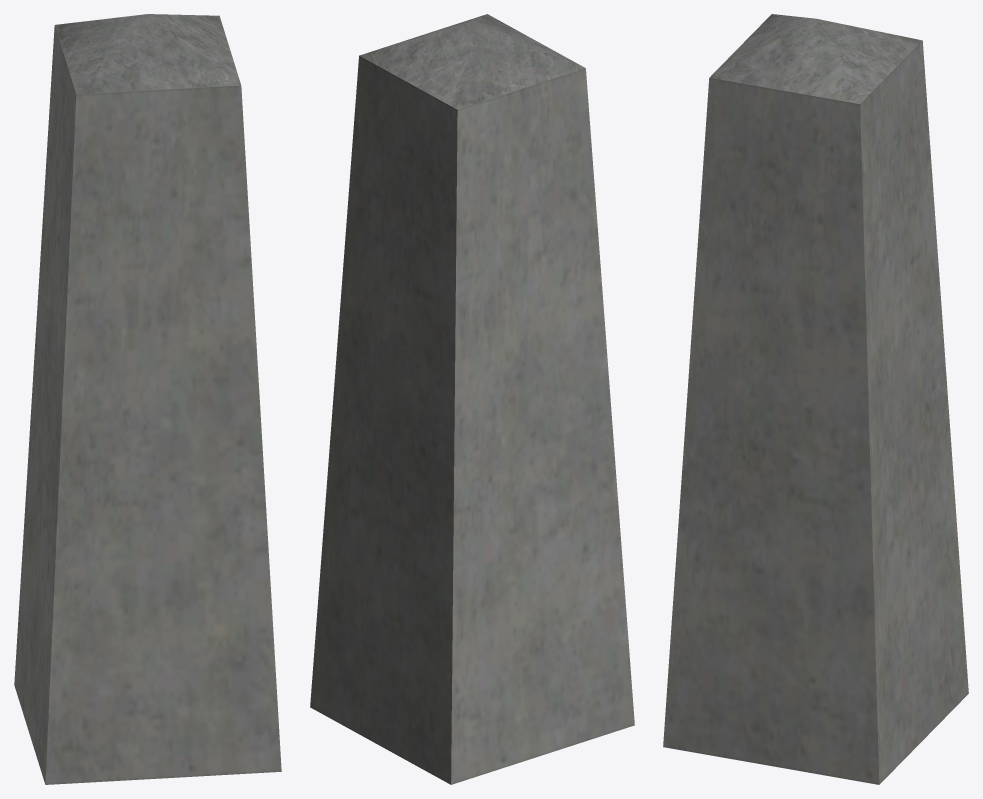
The model's file is mun_all_military_column_med_impl_s01_l2.fbx.
3 renders of one model, left to right at view 1: azimuth 30°, elevation 25°; view 2: azimuth 150°, elevation 25°; view 3: azimuth 270°, elevation 25°, orthographic. The views are drawn at different scales.
Visible parts, largest first — view 1: mesh_node; view 2: mesh_node; view 3: mesh_node.
Boxes of the visible parts, box(x1,y1,x2,y2) form: mesh_node: box(14, 14, 281, 784); mesh_node: box(310, 14, 634, 784); mesh_node: box(663, 14, 968, 784).
Bounding box in the file's own units: 2.57 × 6.5 × 2.57.
